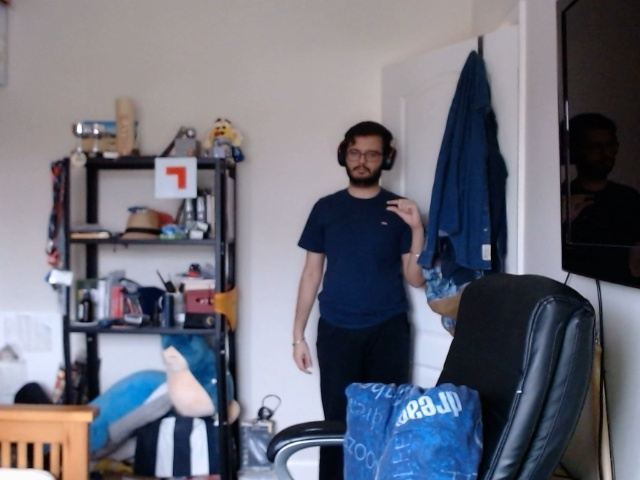Small: (374, 193, 431, 232)
